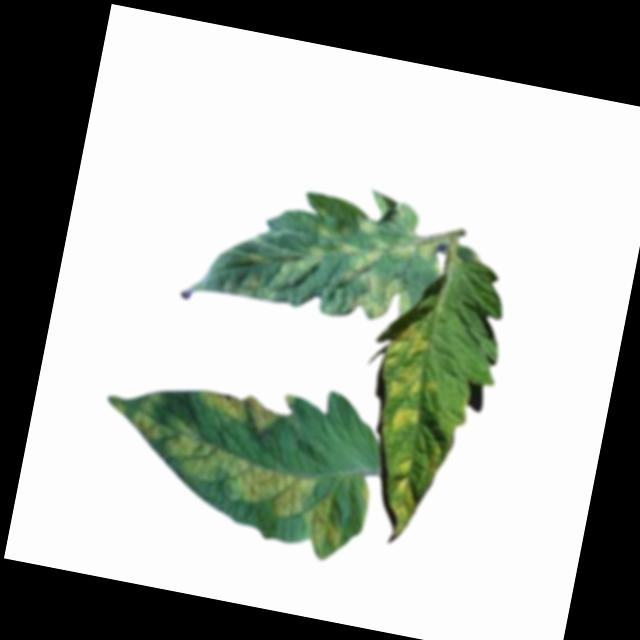Leaf_Mold: (112, 388, 363, 560), (339, 226, 440, 327), (193, 386, 279, 438), (380, 454, 424, 546), (383, 361, 442, 407), (381, 317, 433, 367), (282, 237, 325, 282), (383, 398, 423, 440), (332, 239, 356, 260)
